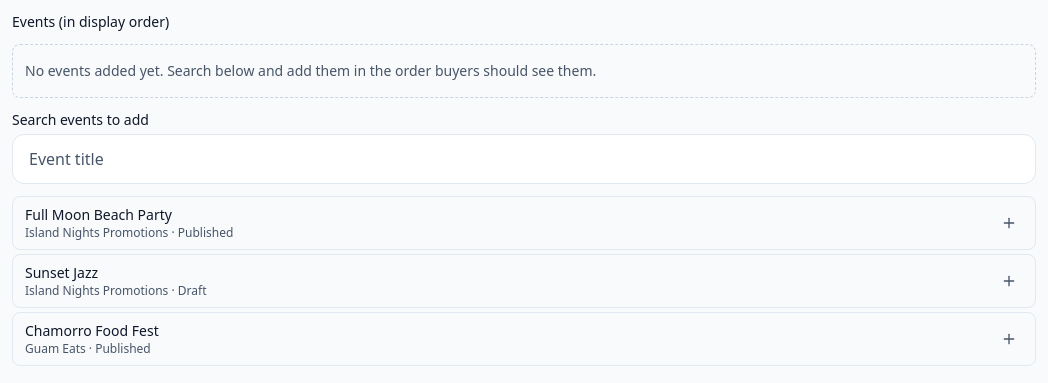
it: CollectionEventPicker › builds, reorders and trims the ordered event id list
The image size is (1048, 383).
Click the button named "Add Chamorro Food Fest" at (1009,339), box [987,317,1031,361]
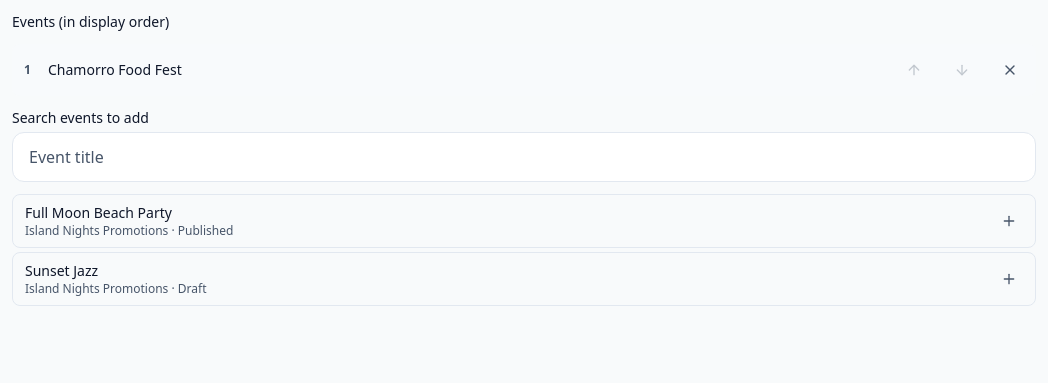
Click the button named "Add Full Moon Beach Party" at (1009,221), box [987,199,1031,243]
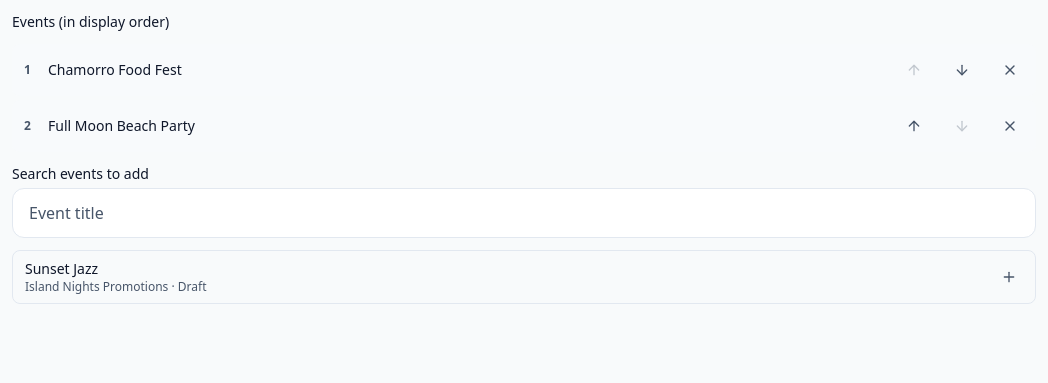
Click the button named "Add Sunset Jazz" at (1009,277), box [987,255,1031,299]
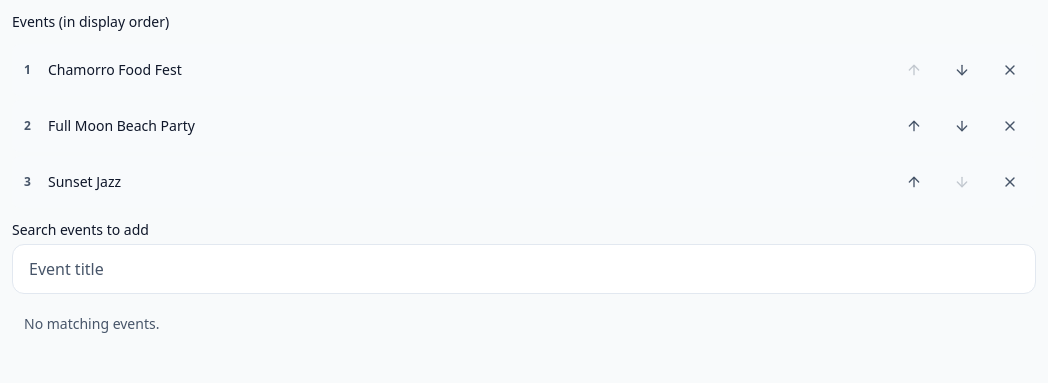
Click the button named "Move Sunset Jazz up" at (914,182), box [892,160,936,204]
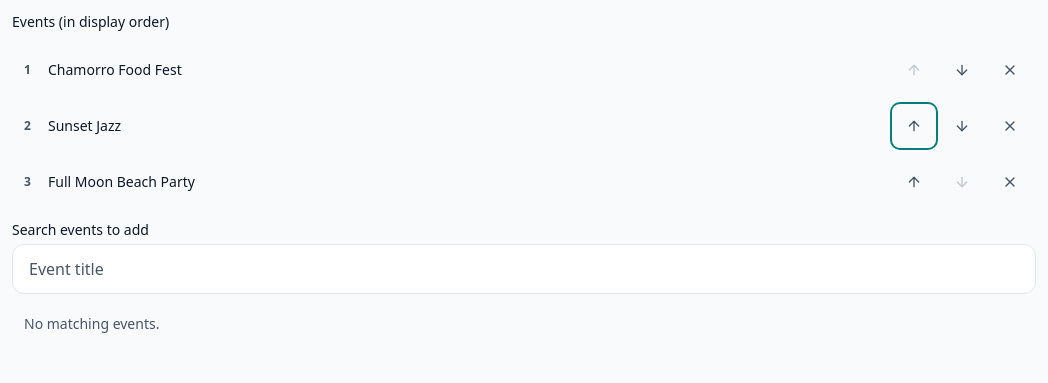
Click the button named "Remove Chamorro Food Fest" at (1010,70), box [988,48,1032,92]
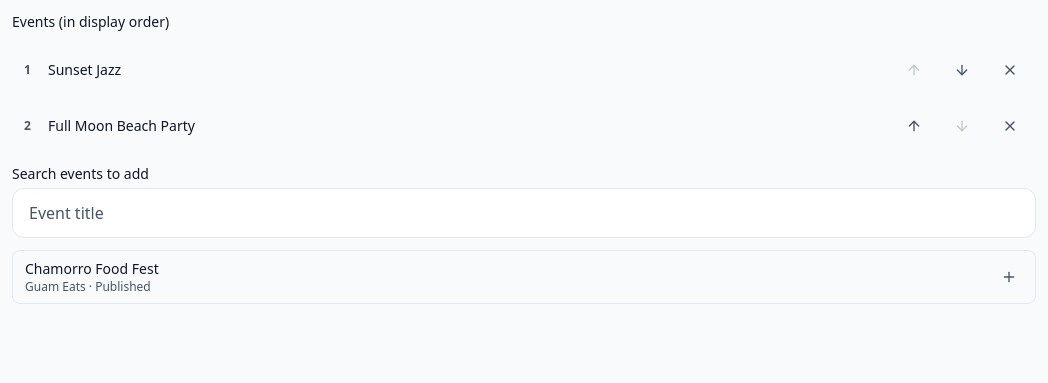
Expected: the button named "Move Sunset Jazz up" is disabled, [892,48,936,92]
Result: the button named "Move Full Moon Beach Party down" is disabled at [940,104,984,148]
Result: the list items read "1Sunset Jazz", "2Full Moon Beach Party", in this order at [12,44,1036,96]; [12,100,1036,152]
